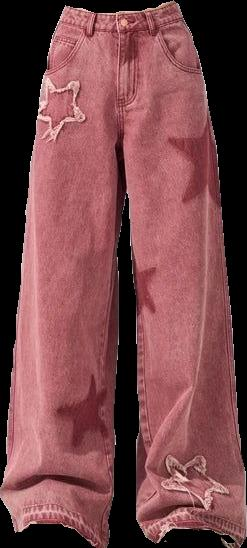Hemline: (15, 516, 105, 547), (153, 521, 238, 547)
Pantleg: (116, 1, 246, 547), (0, 6, 124, 547)
Waistline: (57, 16, 185, 37), (63, 0, 174, 16)
